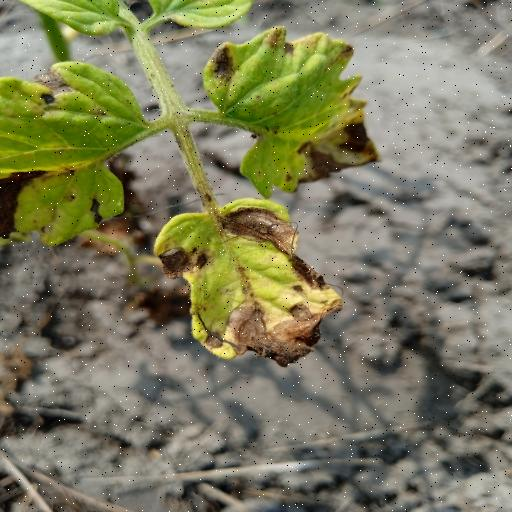Tomato_Brown_Spots: (199, 25, 392, 199), (150, 197, 345, 368), (0, 56, 148, 252)
